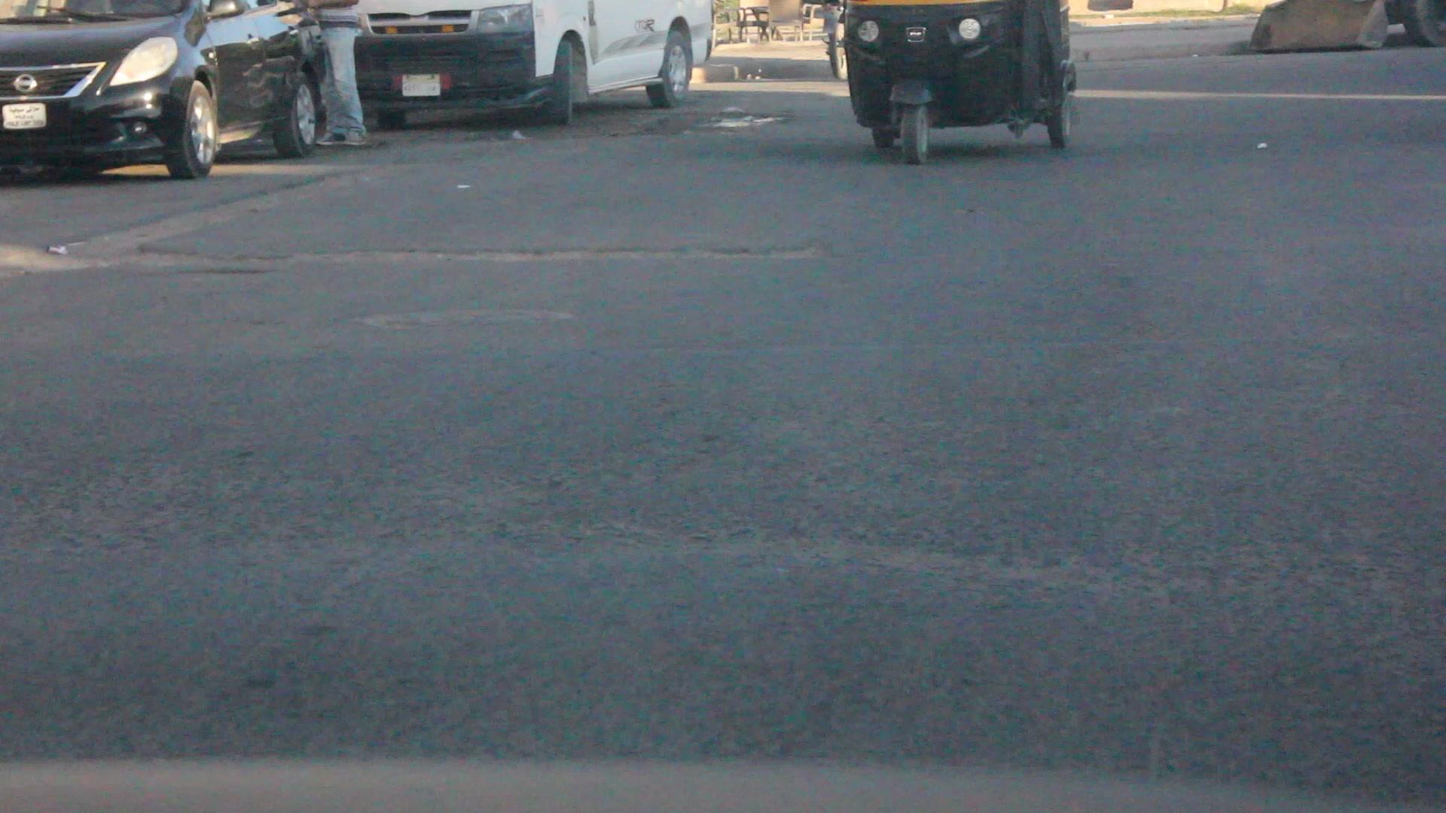Bump: (0, 536, 1444, 800)
